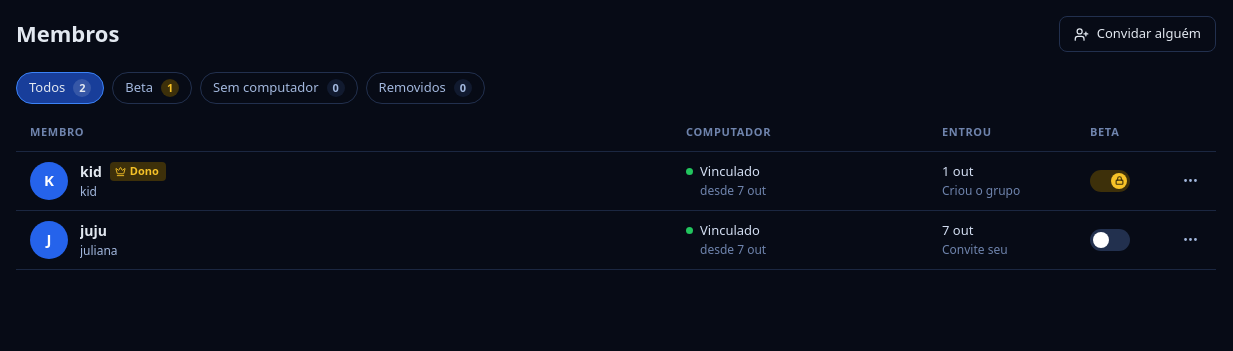
Test case: ações do membro › o dono não sai do grupo nem desvincula o próprio computador
The image size is (1233, 351).
Click the button named "Mais ações para kid".
click(1190, 180)  # box [1174,164,1206,196]
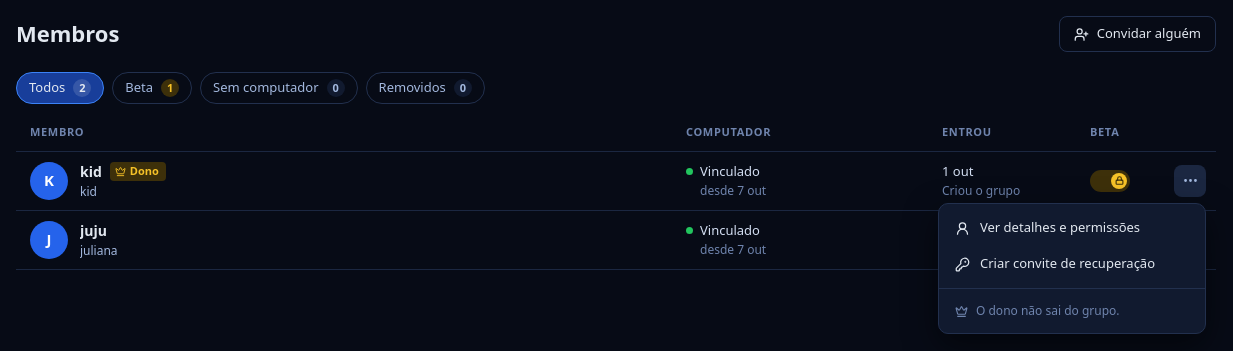
Now the text "O dono não sai do grupo." is shown, box [955,302,1120,319]
